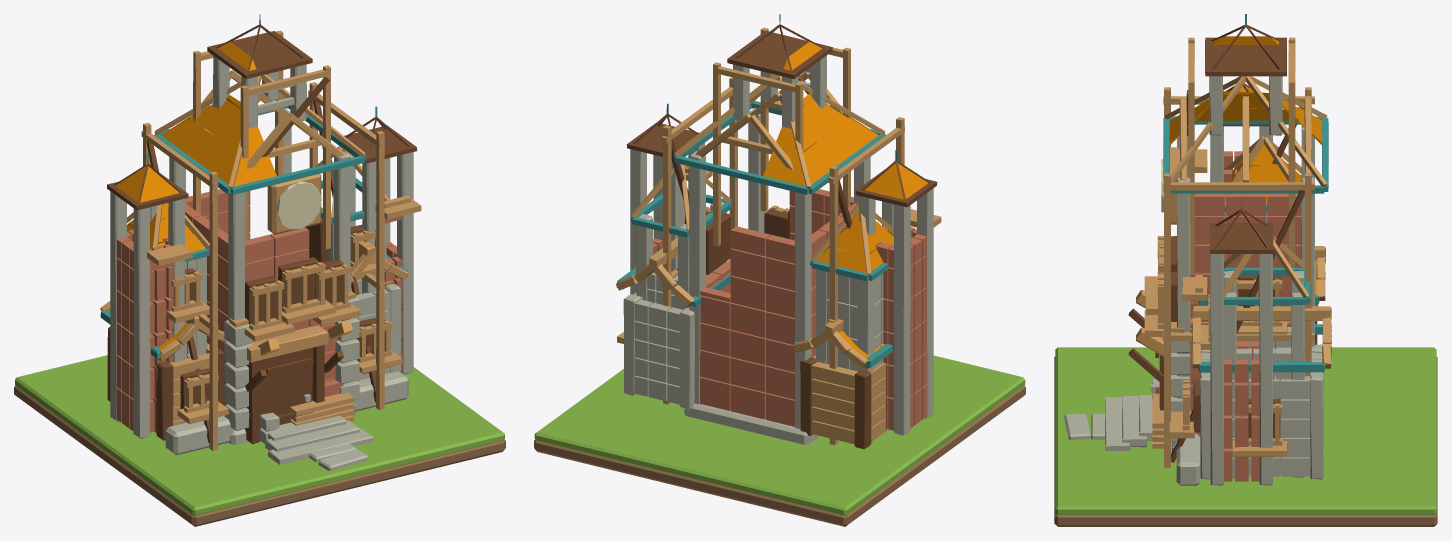
Rendered from town_hall_l10_construction_LOD1.glb.
The picture shows the model from 3 angles, left to right: view 1: azimuth 30°, elevation 25°; view 2: azimuth 150°, elevation 25°; view 3: azimuth 270°, elevation 25°; orthographic projection. The views are drawn at different scales.
Parts seen in each view (by area): view 1: town_hall_l10_construction_foundation.001, town_hall_l10_construction_grass_tile.001, town_hall_l10_construction_earth_tile.001, town_hall_l10_construction_path_stone.005; view 2: town_hall_l10_construction_foundation.001, town_hall_l10_construction_grass_tile.001, town_hall_l10_construction_earth_tile.001; view 3: town_hall_l10_construction_foundation.001, town_hall_l10_construction_grass_tile.001, town_hall_l10_construction_earth_tile.001, town_hall_l10_construction_path_stone.005.
Part boxes in pixels (left/top/right/bottom): town_hall_l10_construction_foundation.001: left=100, top=14, right=421, bottom=464; town_hall_l10_construction_grass_tile.001: left=15, top=355, right=504, bottom=515; town_hall_l10_construction_earth_tile.001: left=14, top=385, right=505, bottom=526; town_hall_l10_construction_path_stone.005: left=318, top=449, right=368, bottom=470; town_hall_l10_construction_foundation.001: left=616, top=14, right=941, bottom=449; town_hall_l10_construction_grass_tile.001: left=534, top=355, right=1025, bottom=515; town_hall_l10_construction_earth_tile.001: left=534, top=385, right=1025, bottom=526; town_hall_l10_construction_foundation.001: left=1105, top=14, right=1331, bottom=485; town_hall_l10_construction_grass_tile.001: left=1055, top=347, right=1436, bottom=514; town_hall_l10_construction_earth_tile.001: left=1054, top=356, right=1437, bottom=526; town_hall_l10_construction_path_stone.005: left=1064, top=413, right=1090, bottom=439.
Size of the model in its own units: 3.6 by 4.49 by 3.6.
